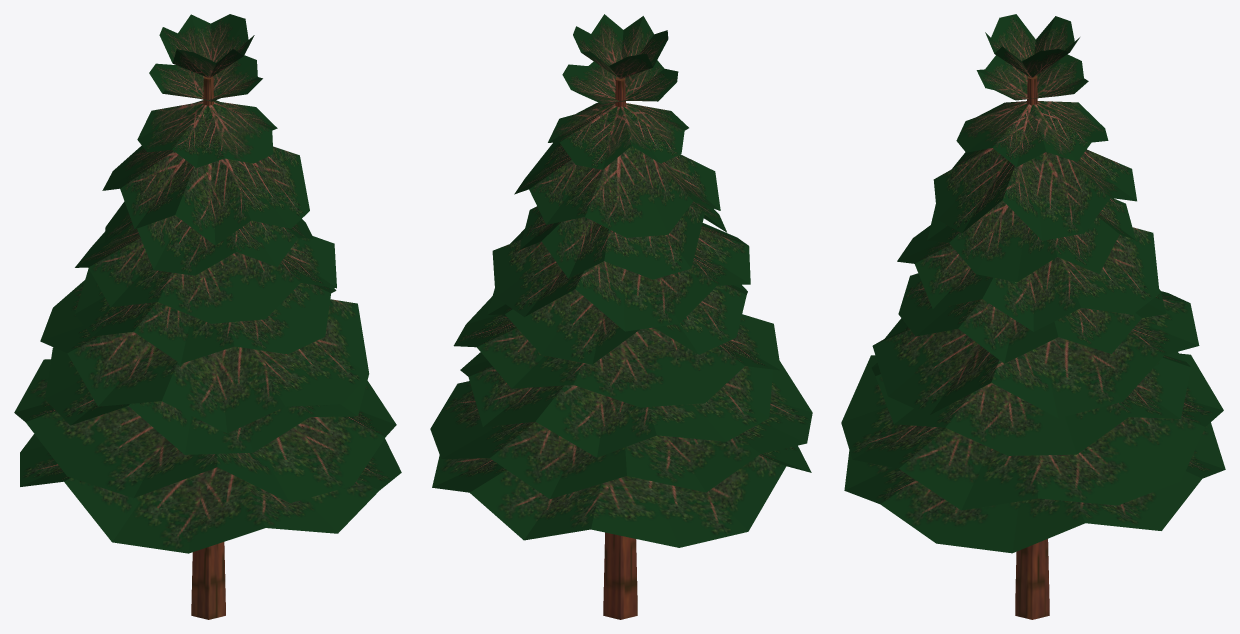
Rendered from fir.dae.
3 views of the same model, side by side, from view 1: azimuth 30°, elevation 25°; view 2: azimuth 150°, elevation 25°; view 3: azimuth 270°, elevation 25° (orthographic).
Parts seen in each view (by area): view 1: NoName,1_Solid,9_NoN, NoName,1_Solid,8_NoN, NoName,1_Solid,2_NoN, NoName,1_Solid,10_No, NoName,1_Solid,7_NoN, NoName,1_Solid,3_NoN, NoName,1_Solid,1_NoN, NoName,1_Solid,5_NoN, NoName,1_Solid,6_NoN, NoName,1_Solid,11_No, NoName,1_Solid,12_No, NoName,2_Cylinder_No; view 2: NoName,1_Solid,8_NoN, NoName,1_Solid,2_NoN, NoName,1_Solid,9_NoN, NoName,1_Solid,1_NoN, NoName,1_Solid,10_No, NoName,1_Solid,7_NoN, NoName,1_Solid,3_NoN, NoName,1_Solid,6_NoN, NoName,1_Solid,5_NoN, NoName,1_Solid,11_No, NoName,1_Solid,12_No, NoName,2_Cylinder_No; view 3: NoName,1_Solid,8_NoN, NoName,1_Solid,9_NoN, NoName,1_Solid,2_NoN, NoName,1_Solid,10_No, NoName,1_Solid,7_NoN, NoName,1_Solid,1_NoN, NoName,1_Solid,6_NoN, NoName,1_Solid,3_NoN, NoName,1_Solid,5_NoN, NoName,1_Solid,11_No, NoName,1_Solid,12_No, NoName,2_Cylinder_No.
Part boxes in pixels (left/top/right/bottom): NoName,1_Solid,9_NoN: left=40, top=280, right=368, bottom=433; NoName,1_Solid,8_NoN: left=14, top=359, right=396, bottom=502; NoName,1_Solid,2_NoN: left=20, top=434, right=401, bottom=553; NoName,1_Solid,10_No: left=75, top=222, right=336, bottom=323; NoName,1_Solid,7_NoN: left=102, top=145, right=309, bottom=245; NoName,1_Solid,3_NoN: left=75, top=268, right=336, bottom=363; NoName,1_Solid,1_NoN: left=45, top=347, right=368, bottom=454; NoName,1_Solid,5_NoN: left=137, top=100, right=277, bottom=167; NoName,1_Solid,6_NoN: left=104, top=201, right=313, bottom=275; NoName,1_Solid,11_No: left=159, top=14, right=254, bottom=77; NoName,1_Solid,12_No: left=149, top=55, right=262, bottom=101; NoName,2_Cylinder_No: left=191, top=76, right=225, bottom=619; NoName,1_Solid,8_NoN: left=430, top=361, right=812, bottom=498; NoName,1_Solid,2_NoN: left=432, top=445, right=811, bottom=547; NoName,1_Solid,9_NoN: left=453, top=296, right=780, bottom=407; NoName,1_Solid,1_NoN: left=460, top=352, right=772, bottom=457; NoName,1_Solid,10_No: left=492, top=223, right=750, bottom=331; NoName,1_Solid,7_NoN: left=514, top=142, right=720, bottom=237; NoName,1_Solid,3_NoN: left=487, top=285, right=747, bottom=364; NoName,1_Solid,6_NoN: left=519, top=201, right=726, bottom=279; NoName,1_Solid,5_NoN: left=548, top=102, right=688, bottom=169; NoName,1_Solid,11_No: left=573, top=14, right=668, bottom=78; NoName,1_Solid,12_No: left=562, top=60, right=678, bottom=104; NoName,2_Cylinder_No: left=603, top=77, right=637, bottom=619; NoName,1_Solid,8_NoN: left=841, top=353, right=1223, bottom=510; NoName,1_Solid,9_NoN: left=872, top=291, right=1199, bottom=418; NoName,1_Solid,2_NoN: left=844, top=422, right=1225, bottom=553; NoName,1_Solid,10_No: left=897, top=225, right=1159, bottom=331; NoName,1_Solid,7_NoN: left=933, top=148, right=1136, bottom=240; NoName,1_Solid,1_NoN: left=871, top=352, right=1190, bottom=455; NoName,1_Solid,6_NoN: left=927, top=198, right=1135, bottom=281; NoName,1_Solid,3_NoN: left=898, top=273, right=1166, bottom=363; NoName,1_Solid,5_NoN: left=956, top=101, right=1108, bottom=166; NoName,1_Solid,11_No: left=985, top=14, right=1079, bottom=77; NoName,1_Solid,12_No: left=976, top=54, right=1088, bottom=100; NoName,2_Cylinder_No: left=1015, top=75, right=1049, bottom=619.
Bounding box in the file's own units: 3.08 × 3.1 × 5.17.
